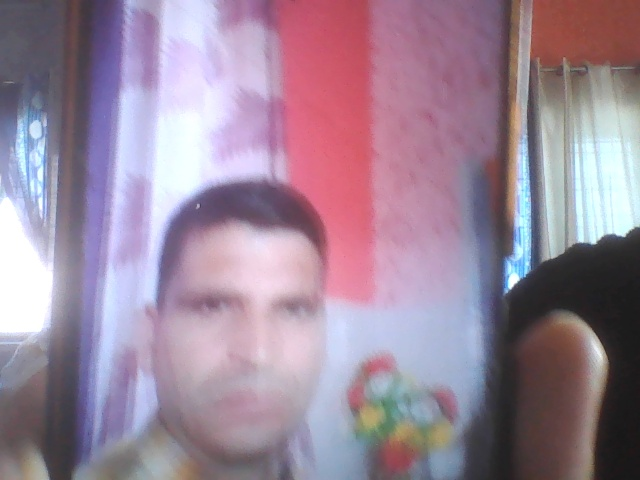fake: (131, 152, 351, 464)
